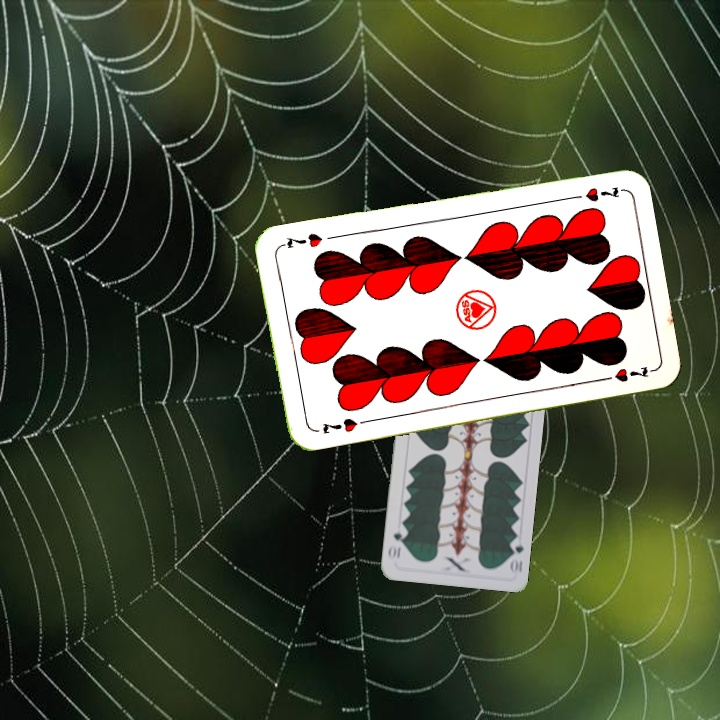G10: (506, 535, 526, 576)
H7: (565, 182, 624, 204), (318, 414, 360, 437)
